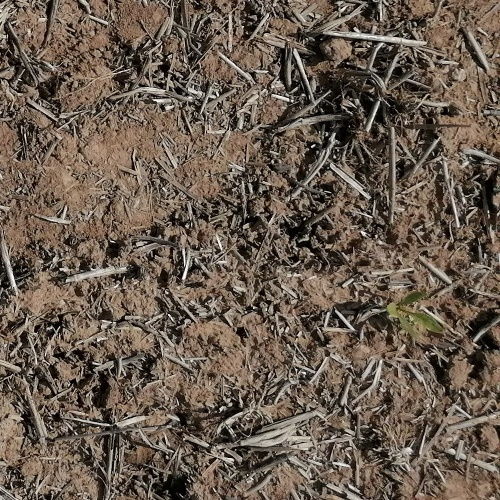beet: (390, 289, 445, 343)
